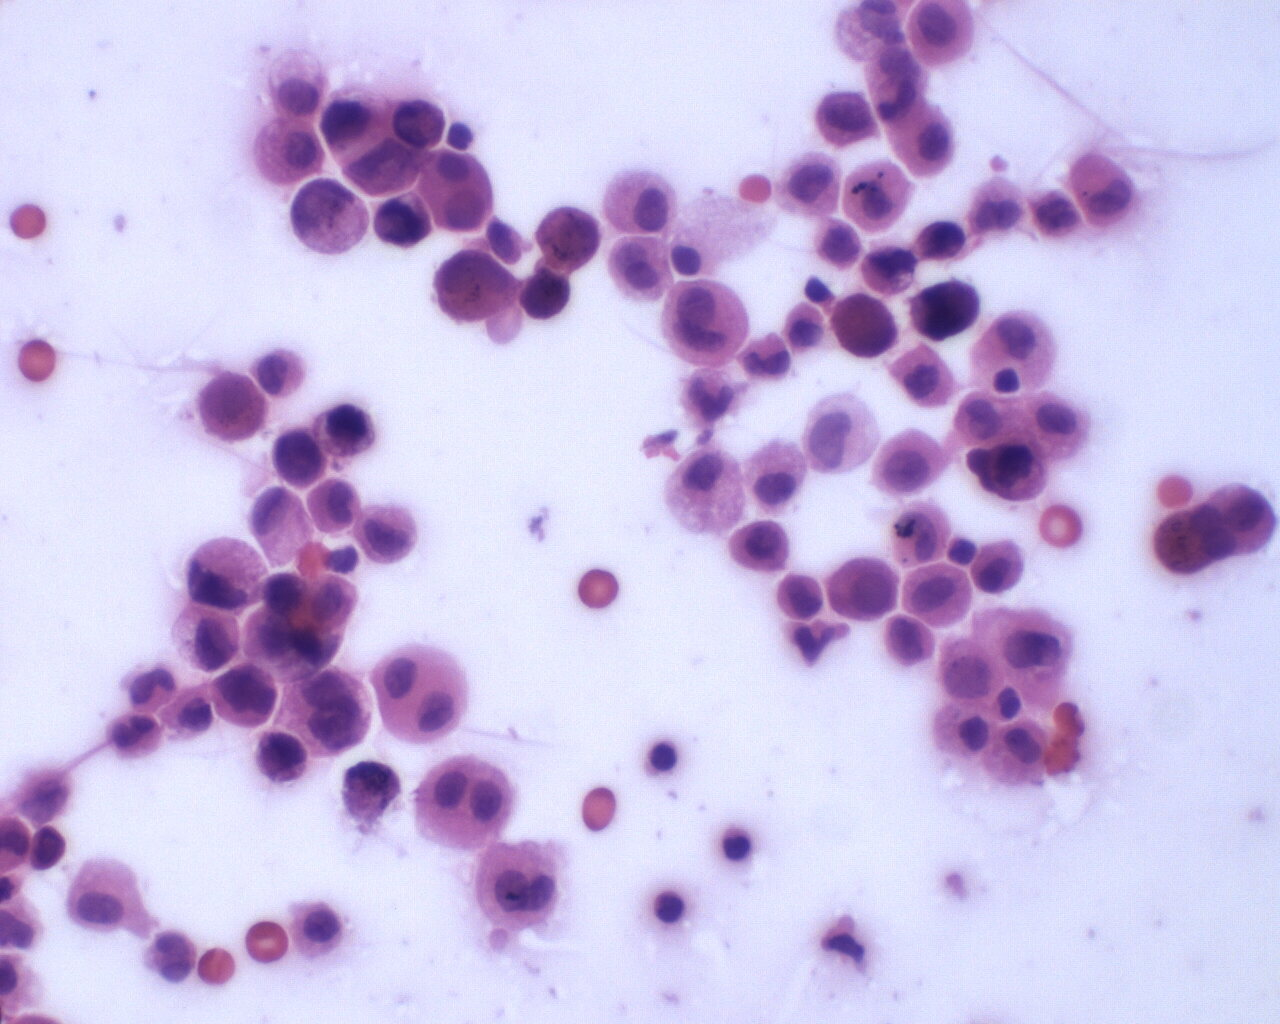ab: (430, 242, 523, 332), (184, 528, 269, 611), (819, 551, 905, 627), (191, 369, 275, 446), (204, 661, 286, 736), (531, 202, 607, 273), (911, 276, 985, 344), (891, 102, 957, 179), (354, 501, 428, 565), (985, 438, 1051, 508), (313, 397, 380, 463), (510, 263, 574, 327), (373, 188, 436, 253), (814, 90, 881, 149), (266, 428, 333, 485), (252, 726, 313, 784), (730, 518, 795, 571), (390, 98, 448, 150), (860, 243, 916, 297), (914, 217, 969, 265), (26, 823, 70, 872)
lymph: (651, 885, 690, 932), (647, 737, 686, 778)
meso: (373, 641, 481, 752), (410, 750, 519, 856), (474, 840, 563, 937), (665, 442, 749, 536), (864, 426, 955, 499), (66, 855, 146, 936), (247, 116, 332, 184), (604, 166, 680, 242), (774, 147, 848, 220), (743, 441, 814, 511), (928, 696, 998, 766)
neutro: (108, 709, 160, 764)
